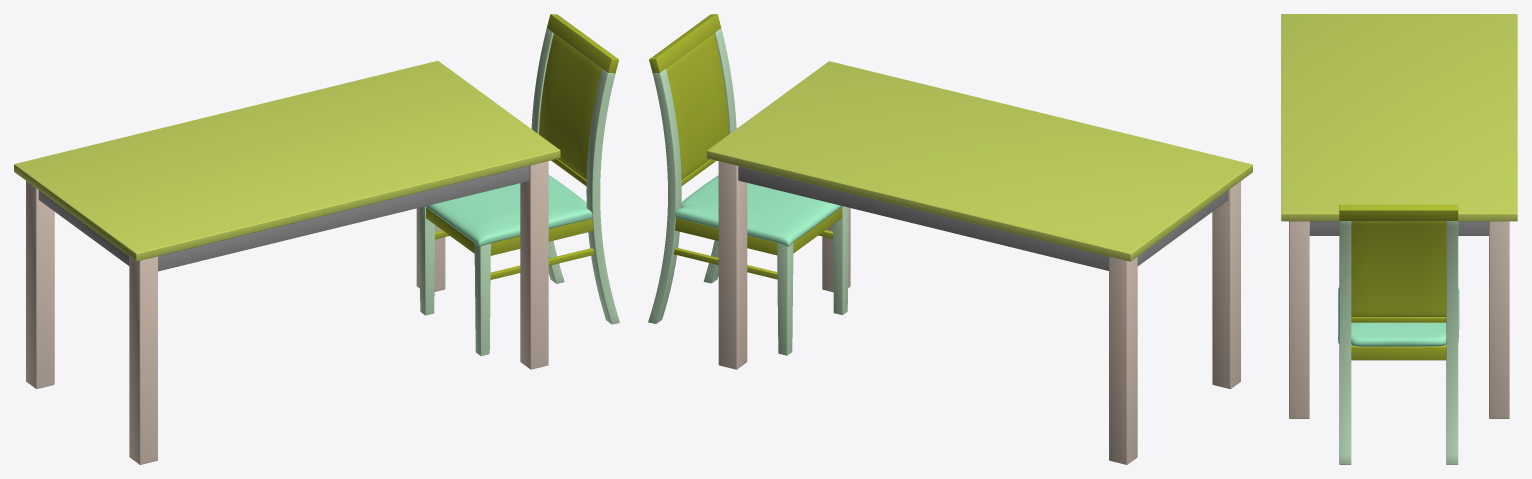
The model's file is dining.glb.
3 views of the same model, side by side, from view 1: azimuth 30°, elevation 25°; view 2: azimuth 150°, elevation 25°; view 3: azimuth 270°, elevation 25° (orthographic). The views are drawn at different scales.
Visible parts, largest first — view 1: table ERNEST 160_200 & chair SYLWEK 1; view 2: table ERNEST 160_200 & chair SYLWEK 1; view 3: table ERNEST 160_200 & chair SYLWEK 1.
Boxes of the visible parts, left/top/right/bottom form: table ERNEST 160_200 & chair SYLWEK 1: left=14, top=14, right=619, bottom=464; table ERNEST 160_200 & chair SYLWEK 1: left=648, top=14, right=1252, bottom=464; table ERNEST 160_200 & chair SYLWEK 1: left=1281, top=14, right=1517, bottom=464.
Size of the model in its own units: 194 by 95.76 by 80.
